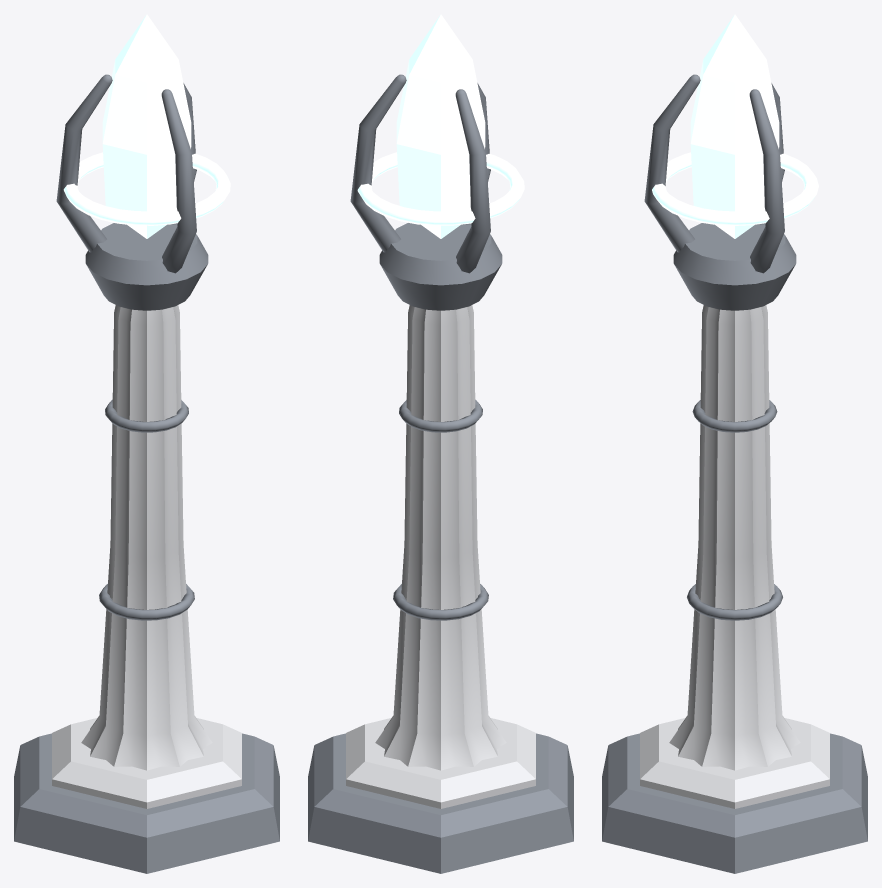
File: beacon.glb
3 views of the same model, side by side, from view 1: azimuth 30°, elevation 25°; view 2: azimuth 150°, elevation 25°; view 3: azimuth 270°, elevation 25° (orthographic).
Parts seen in each view (by area): view 1: beacon; view 2: beacon; view 3: beacon.
Part boxes in pixels (<box>): beacon: <box>14,14,279,873</box>; beacon: <box>308,14,573,873</box>; beacon: <box>602,14,867,873</box>.
Bounding box in the file's own units: 0.42 × 1.2 × 0.3637.
